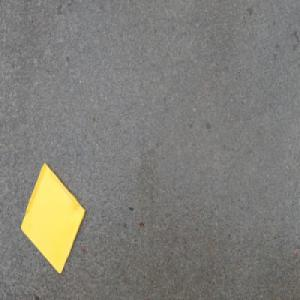PlasticPart: (19, 161, 86, 275)
